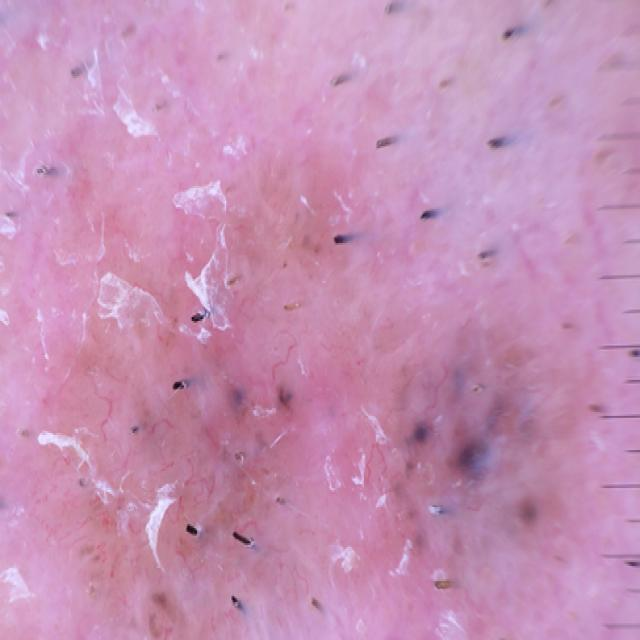Carcinoma: (37, 63, 273, 420), (394, 321, 565, 574)
